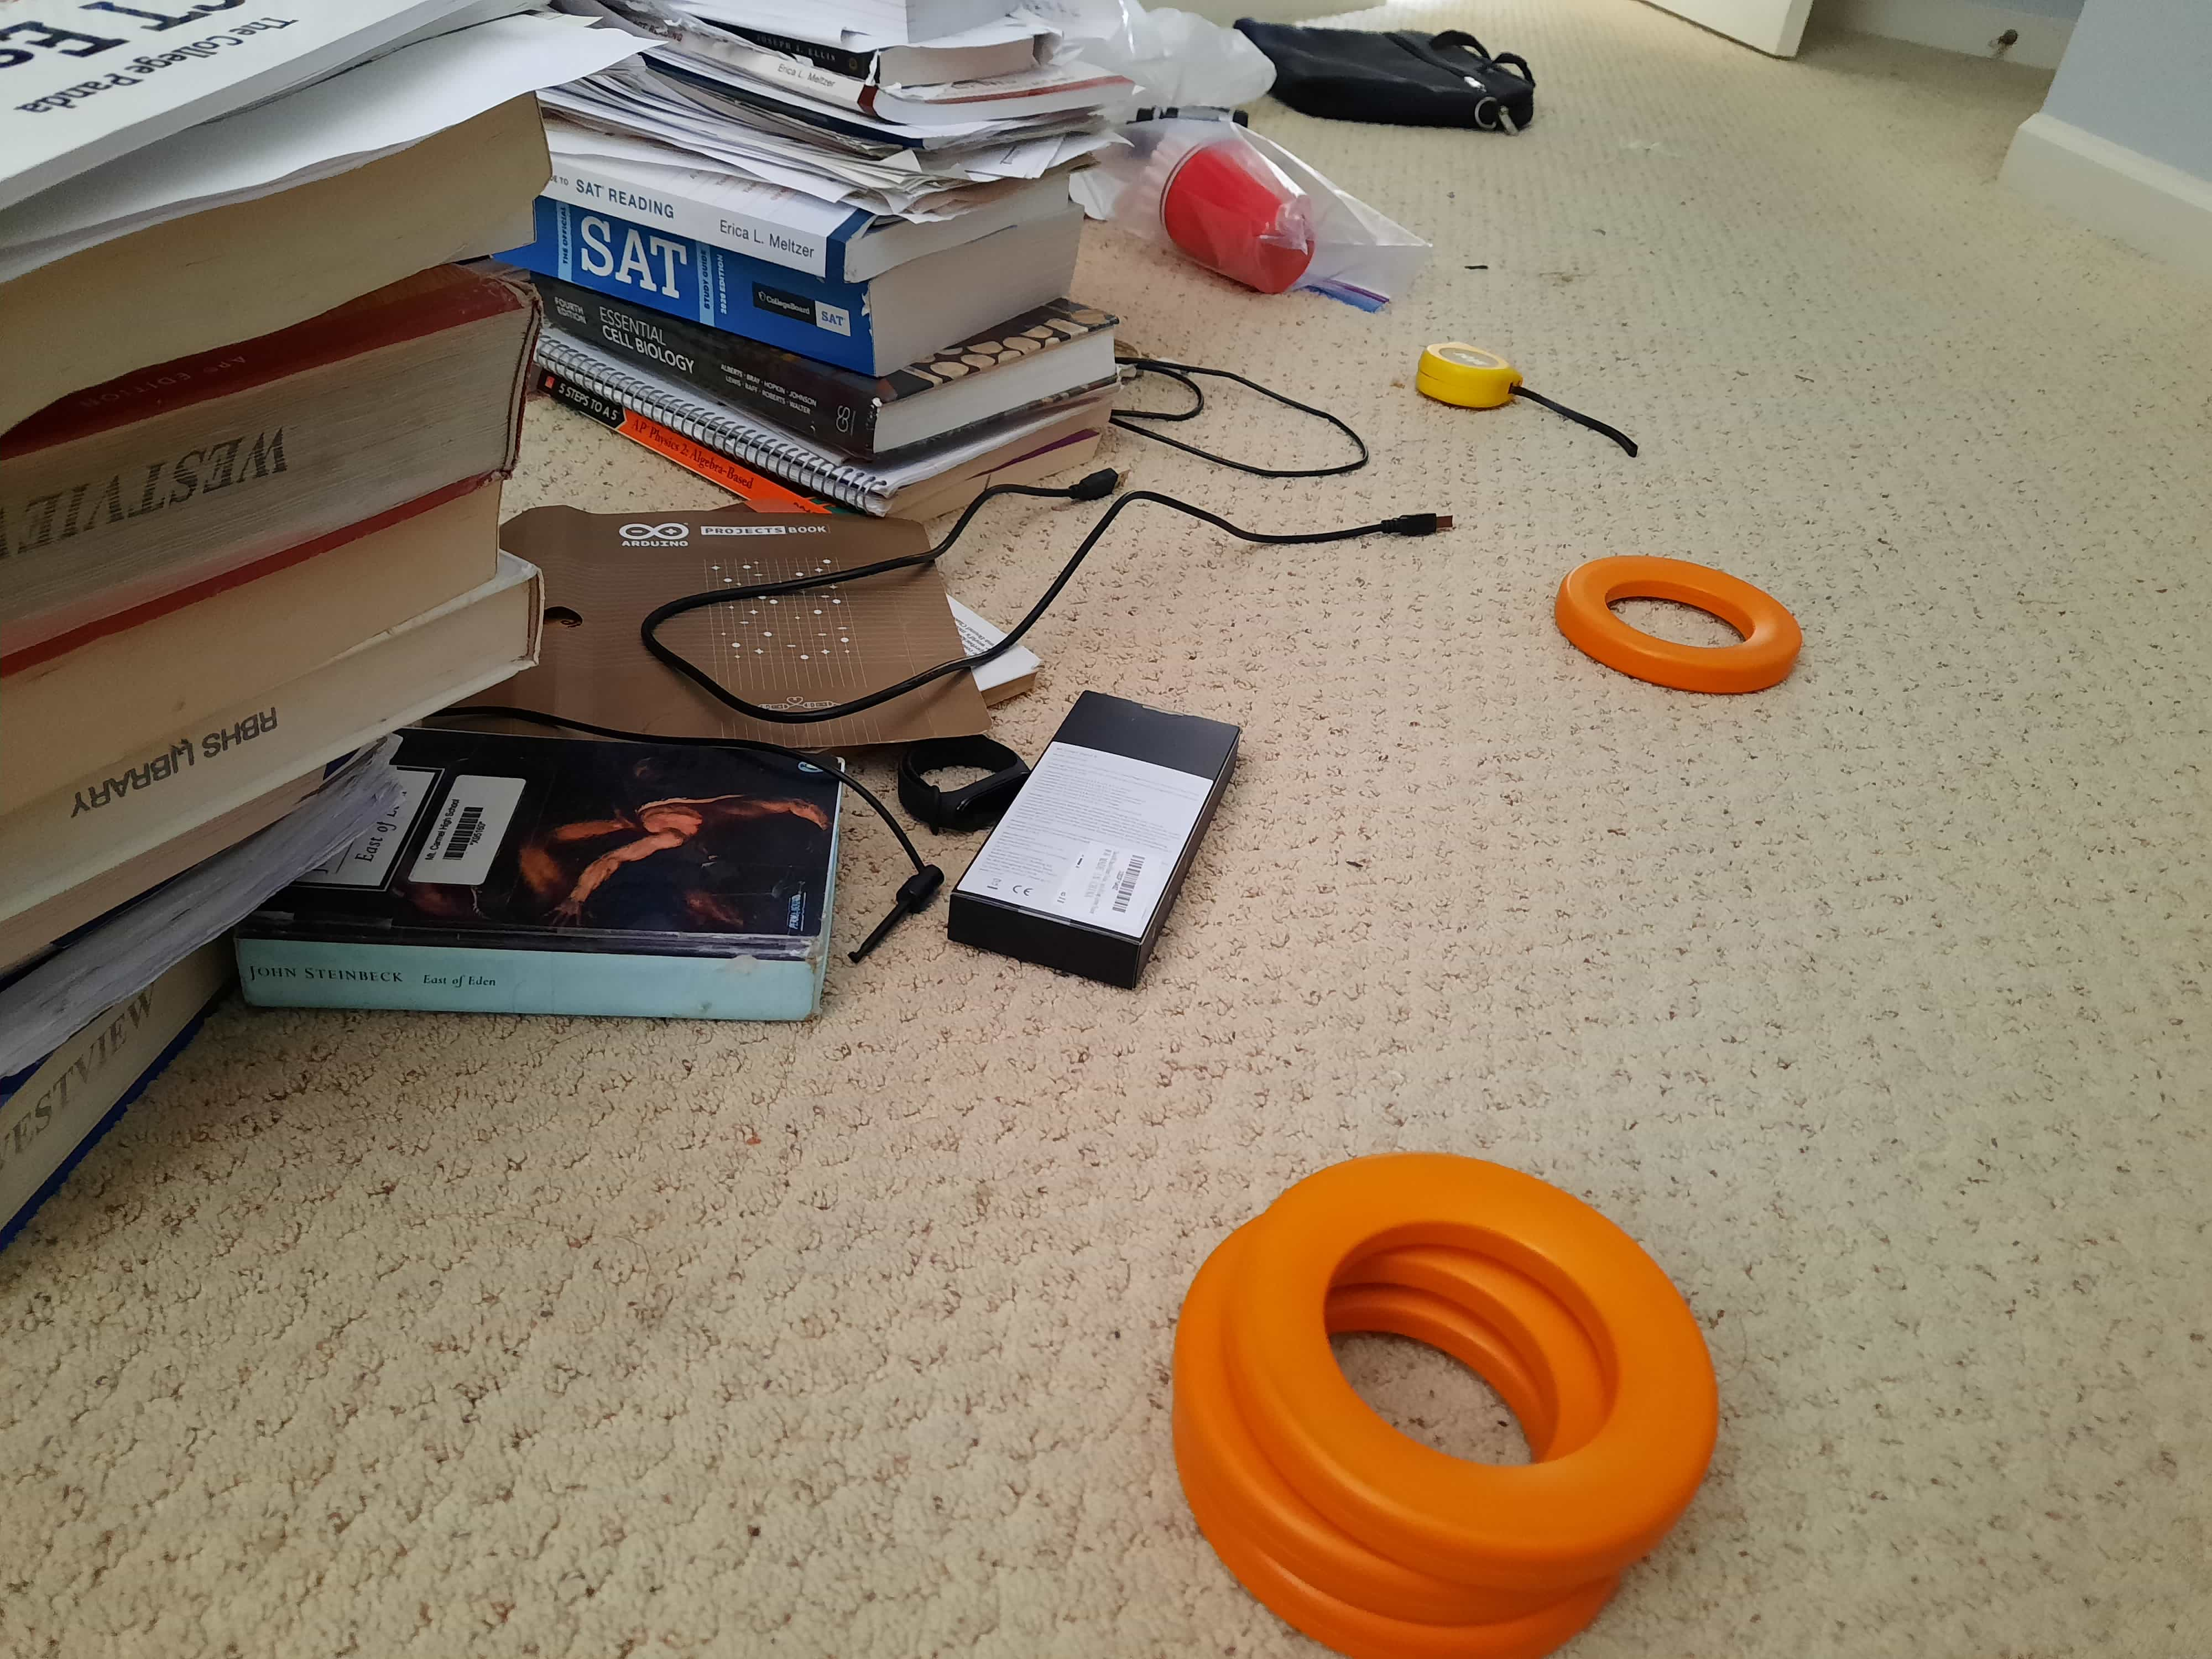FourStack: (1167, 1154, 1724, 1642)
OneStack: (1568, 552, 1803, 695)
